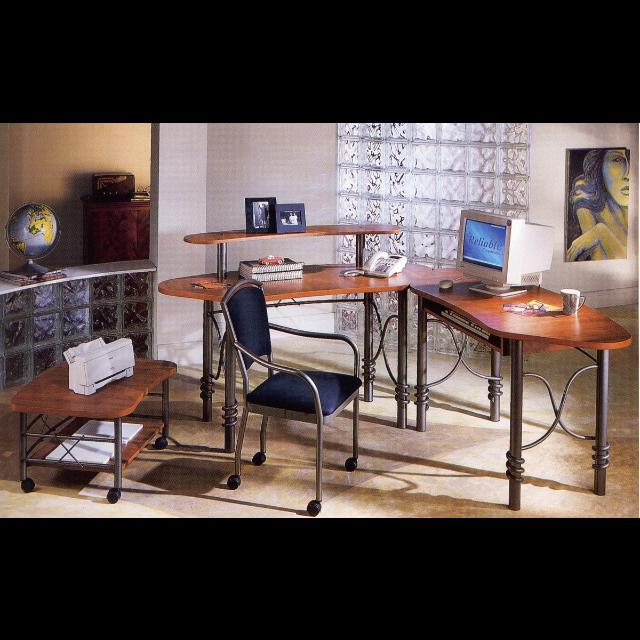glasses: (516, 300, 544, 314)
